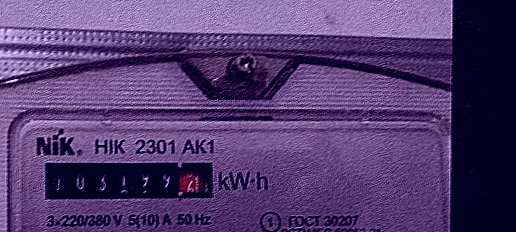0: (74, 172, 85, 191), (51, 173, 60, 191)
1: (118, 169, 127, 187)
3: (96, 172, 106, 192)
6: (184, 178, 194, 192)
9: (139, 169, 149, 189), (161, 171, 171, 189)
screen: (36, 151, 219, 208)
